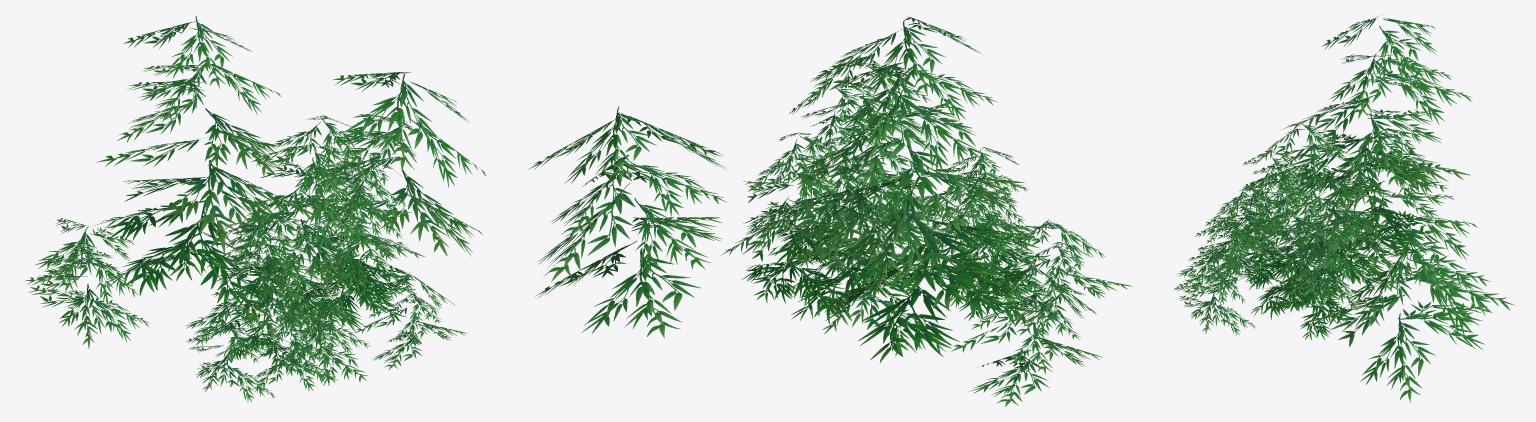
The model's file is Area_13_17.fbx.
3 views of the same model, side by side, from view 1: azimuth 30°, elevation 25°; view 2: azimuth 150°, elevation 25°; view 3: azimuth 270°, elevation 25° (orthographic). The views are drawn at different scales.
Visible parts, largest first — view 1: Area_13_17; view 2: Area_13_17; view 3: Area_13_17.
Boxes of the visible parts, <box> form: Area_13_17: <box>25,16,485,402</box>; Area_13_17: <box>528,16,1132,406</box>; Area_13_17: <box>1174,14,1515,402</box>.
Size of the model in its own units: 3271 by 2061 by 2499.
